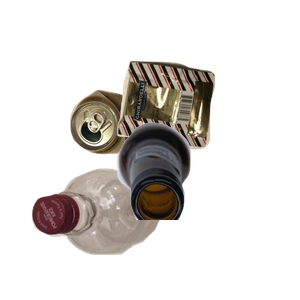glass: (115, 120, 300, 300)
metal: (67, 87, 206, 234)
plastic: (29, 166, 183, 300)
trash: (115, 58, 300, 200)
